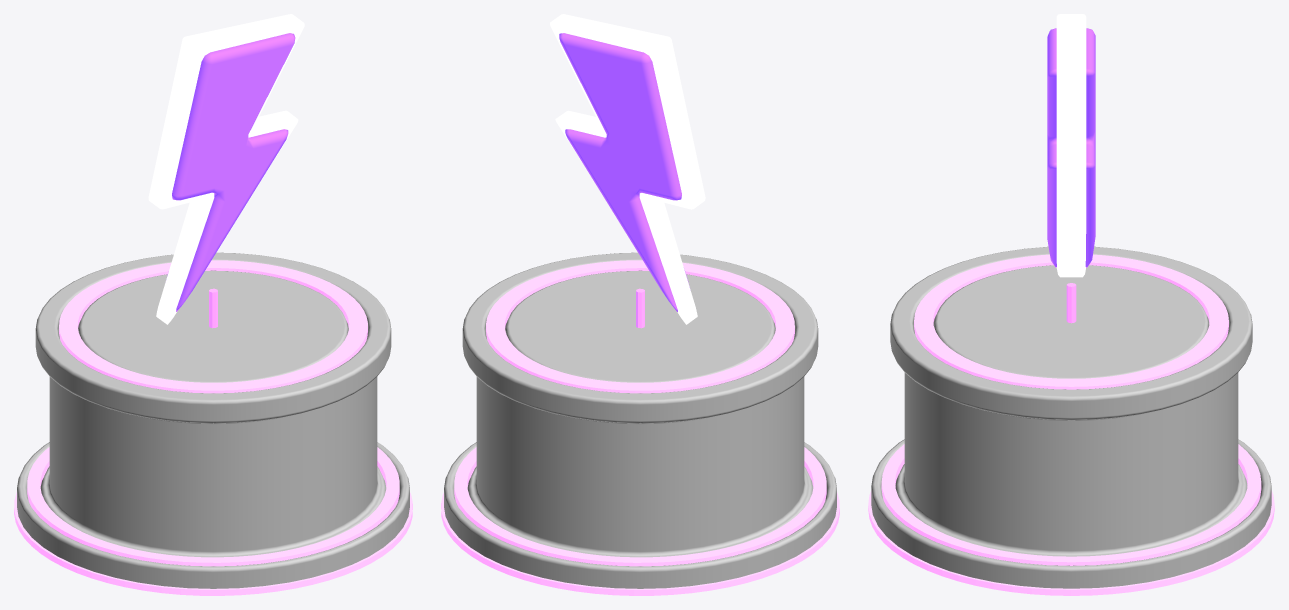
File: Lobby_PED_Lightning.fbx
3 renders of one model, left to right at view 1: azimuth 30°, elevation 25°; view 2: azimuth 150°, elevation 25°; view 3: azimuth 270°, elevation 25°, orthographic.
Visible parts, largest first — view 1: Lobby_PED_Lightning__PedestalMarble, Lobby_PED_Lightning__PedNeon_Lightning, Lobby_PED_Lightning__Glyph_LightningBody, Lobby_PED_Lightning__Glyph_LightningRim; view 2: Lobby_PED_Lightning__PedestalMarble, Lobby_PED_Lightning__PedNeon_Lightning, Lobby_PED_Lightning__Glyph_LightningBody, Lobby_PED_Lightning__Glyph_LightningRim; view 3: Lobby_PED_Lightning__PedestalMarble, Lobby_PED_Lightning__PedNeon_Lightning, Lobby_PED_Lightning__Glyph_LightningRim, Lobby_PED_Lightning__Glyph_LightningBody.
Boxes of the visible parts, x1,y1,x2,y2 form: Lobby_PED_Lightning__PedestalMarble: [17, 252, 409, 588]; Lobby_PED_Lightning__PedNeon_Lightning: [14, 260, 412, 595]; Lobby_PED_Lightning__Glyph_LightningBody: [167, 33, 295, 311]; Lobby_PED_Lightning__Glyph_LightningRim: [148, 14, 304, 324]; Lobby_PED_Lightning__PedestalMarble: [444, 252, 836, 588]; Lobby_PED_Lightning__PedNeon_Lightning: [441, 260, 839, 595]; Lobby_PED_Lightning__Glyph_LightningBody: [559, 33, 689, 311]; Lobby_PED_Lightning__Glyph_LightningRim: [550, 14, 705, 324]; Lobby_PED_Lightning__PedestalMarble: [871, 246, 1271, 588]; Lobby_PED_Lightning__PedNeon_Lightning: [868, 254, 1274, 595]; Lobby_PED_Lightning__Glyph_LightningRim: [1056, 14, 1086, 277]; Lobby_PED_Lightning__Glyph_LightningBody: [1047, 28, 1095, 267].
Size of the model in its own units: 4.26 by 5.63 by 4.26.
